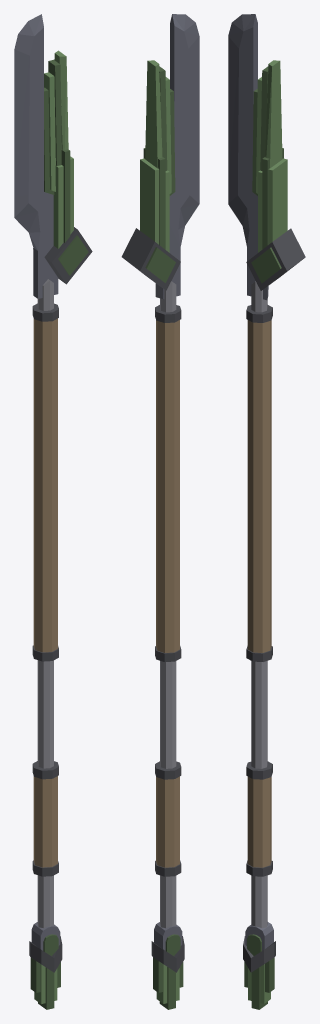
Rendered from Lanca_B21.fbx.
3 views of the same model, side by side, from view 1: azimuth 30°, elevation 25°; view 2: azimuth 210°, elevation 25°; view 3: azimuth 330°, elevation 25° (orthographic).
Parts seen in each view (by area): view 1: polearm_21; view 2: polearm_21; view 3: polearm_21.
Boxes of the visible parts, x1=… form: polearm_21: x1=14, y1=14, x2=92, y2=1009; polearm_21: x1=121, y1=14, x2=199, y2=1009; polearm_21: x1=228, y1=14, x2=305, y2=1009.
Bounding box in the file's own units: 15.07 × 209 × 8.2.
